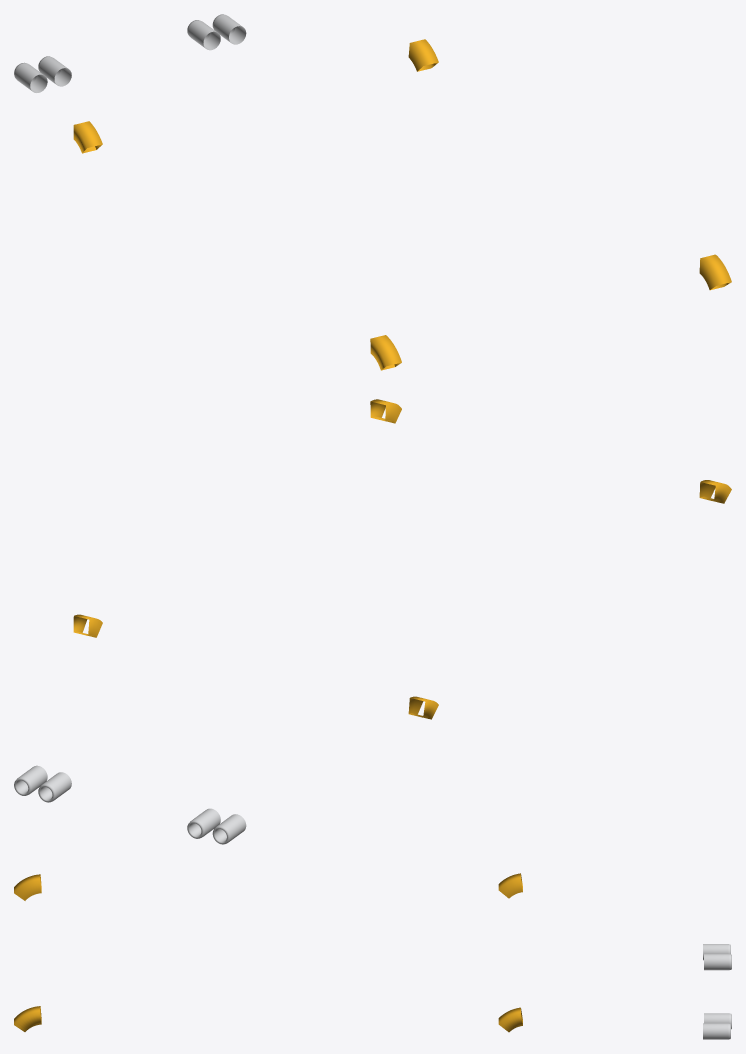
The model's file is halden-aster-gt.glb.
The picture shows the model from 3 angles, top to bottom: view 1: azimuth 30°, elevation 25°; view 2: azimuth 150°, elevation 25°; view 3: azimuth 270°, elevation 25°; orthographic projection. The views are drawn at different scales.
Visible parts, largest first — view 1: Exhaust, Caliper_FL, Caliper_FR, Caliper_RL, Caliper_RR; view 2: Exhaust; view 3: Exhaust, Caliper_FR, Caliper_FL, Caliper_RR, Caliper_RL.
Boxes of the visible parts, bbox=[...] form: Exhaust: bbox=[14, 14, 246, 92]; Caliper_FL: bbox=[699, 254, 731, 290]; Caliper_FR: bbox=[370, 335, 401, 370]; Caliper_RL: bbox=[408, 39, 438, 71]; Caliper_RR: bbox=[73, 121, 102, 153]; Exhaust: bbox=[14, 765, 246, 844]; Exhaust: bbox=[703, 944, 731, 1039]; Caliper_FR: bbox=[14, 874, 41, 900]; Caliper_FL: bbox=[14, 1006, 41, 1031]; Caliper_RR: bbox=[498, 873, 522, 898]; Caliper_RL: bbox=[498, 1007, 522, 1032].
Size of what is drawn, in the model's own units: 1.7 by 0.3162 by 3.67.
